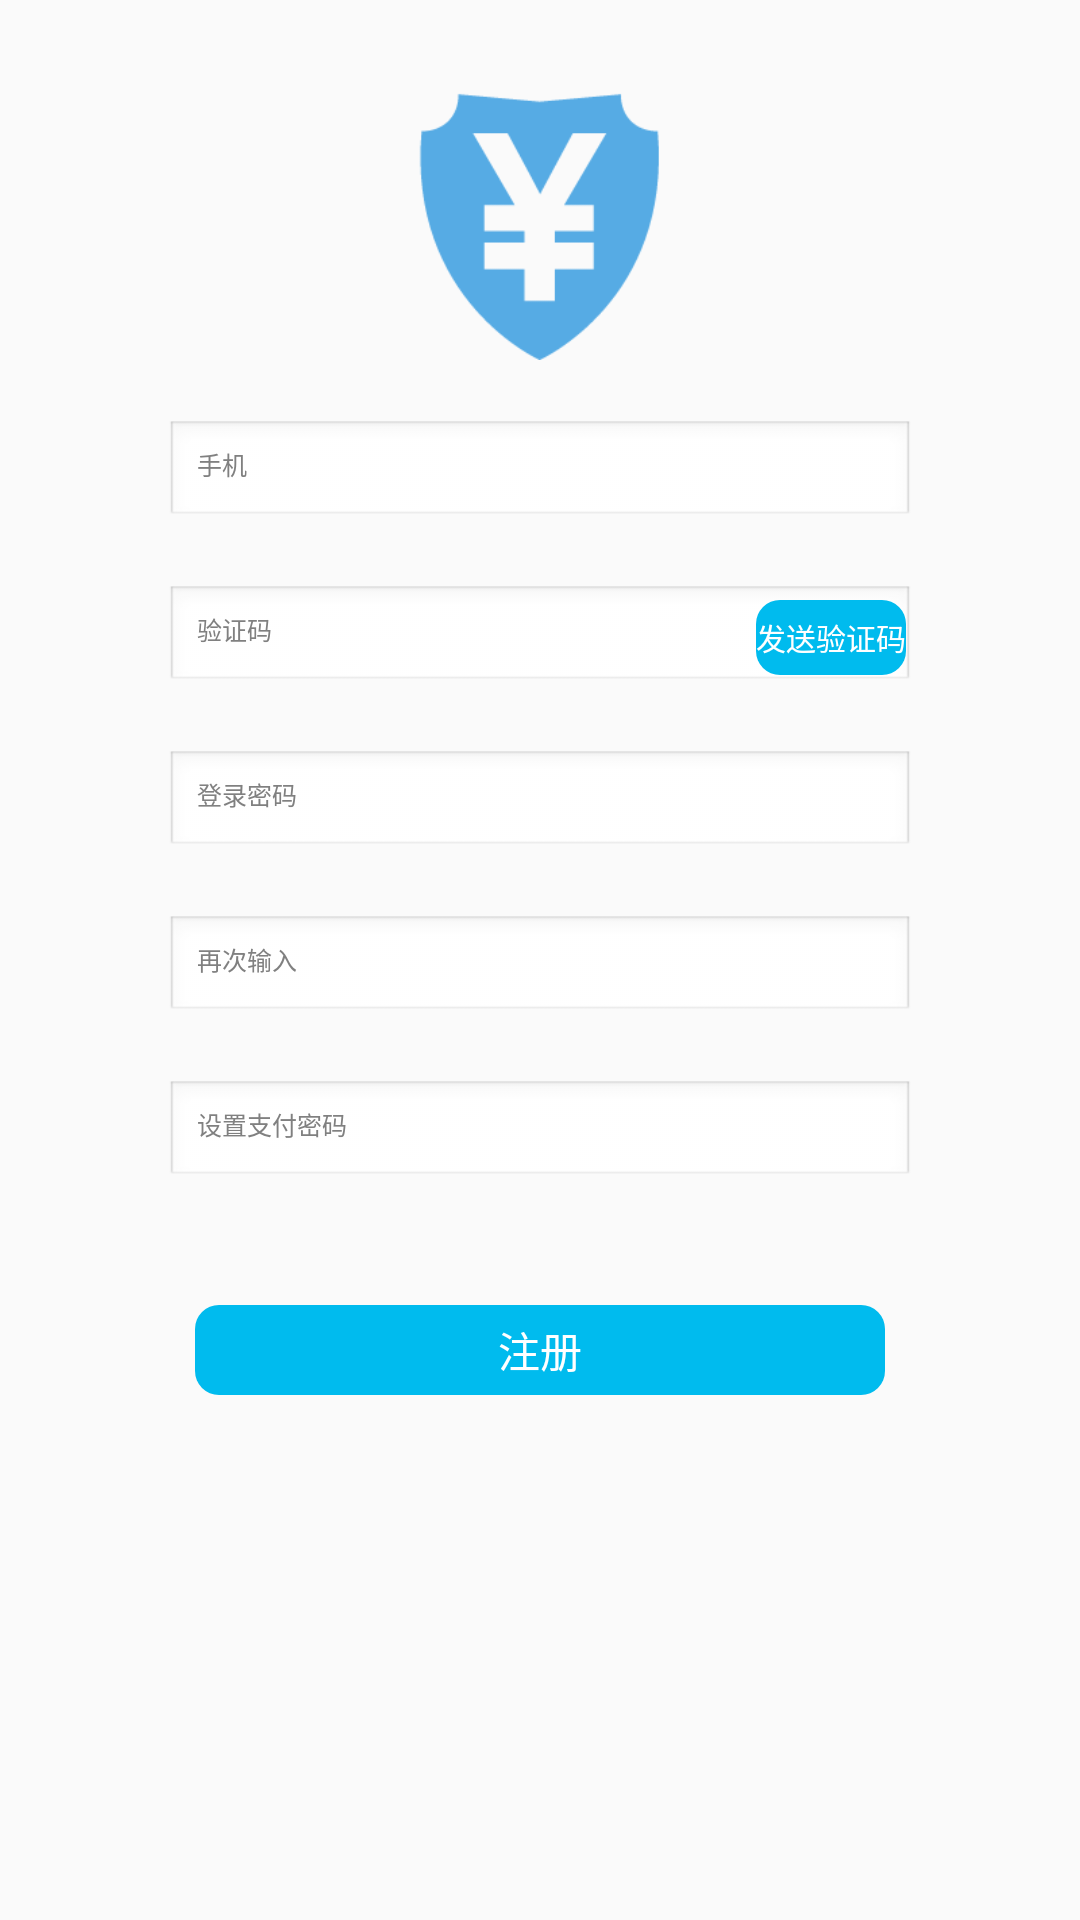

Where icons sit on this 1080w x 1920h app screen, as (left=x1, top=y1, right=x2, bottom=y2):
pay: (left=420, top=94, right=659, bottom=360)
